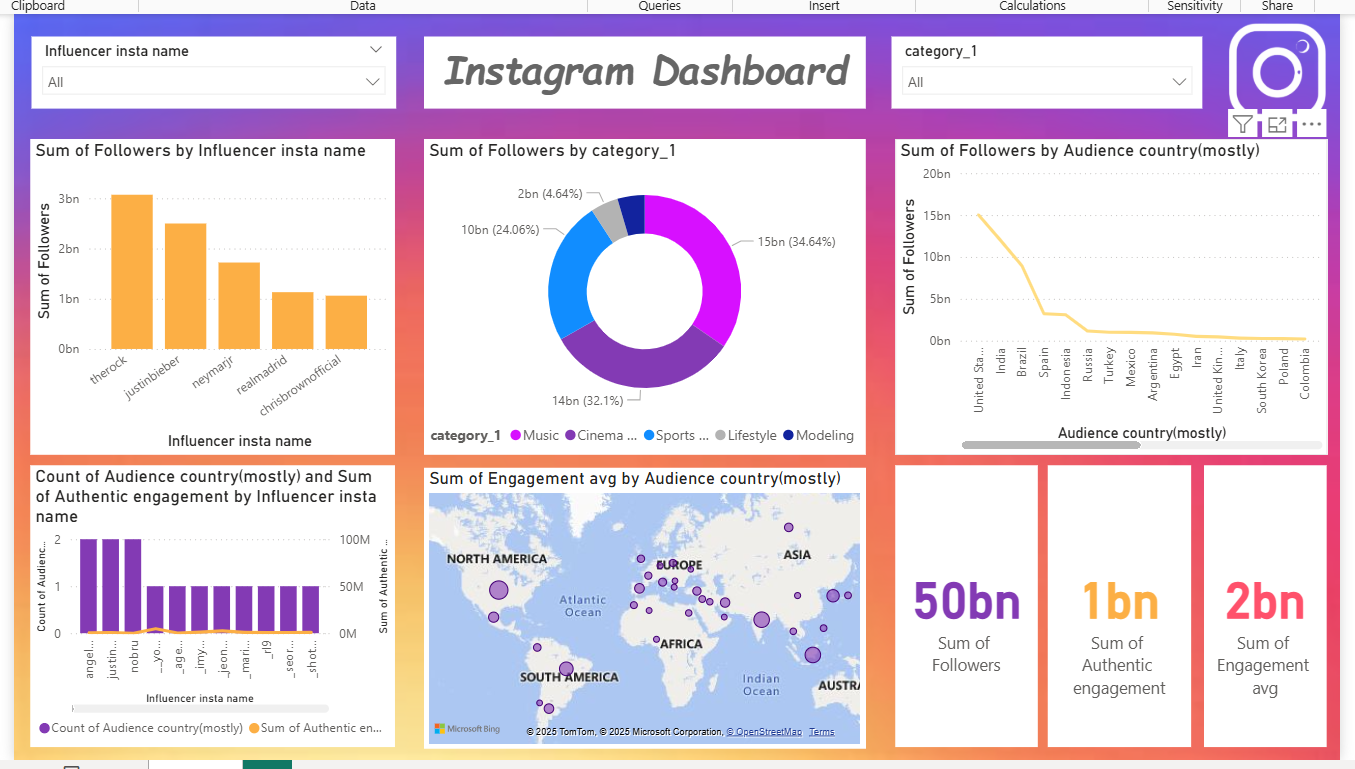

Layout of this report page (visuals, bound fields, positions):
{"tool":"powerbi","page":{"name":"Page 1","canvas":[1280,720],"ordinal":0},"visuals":[{"type":"image","box":[1157.6,0,122.8,110.5],"z":0},{"type":"textbox","box":[395.2,21.2,426.4,69.2],"z":1000},{"type":"clusteredColumnChart","fields":{"Category":["Sheet1.Influencer insta name"],"Y":["Sheet1.Followers"]},"box":[16.3,120.9,352.3,304.7],"z":2000},{"type":"donutChart","fields":{"Category":["Sheet1.category_1"],"Y":["Sheet1.Followers"]},"box":[395.2,120.6,426.4,304.7],"z":3000},{"type":"lineChart","fields":{"Category":["Sheet1.Audience country(mostly)"],"Y":["Sheet1.Followers"]},"box":[850,120.9,417.4,304.7],"z":4000},{"type":"slicer","fields":{"Values":["Sheet1.Influencer insta name"]},"box":[16.7,21.2,351.6,69.2],"z":5000},{"type":"lineStackedColumnComboChart","fields":{"Category":["Sheet1.Influencer insta name"],"Y":["Sheet1.Audience country(mostly)"],"Y2":["Sheet1.Authentic engagement"]},"box":[16.3,436,352.3,272.1],"z":6000},{"type":"map","fields":{"Category":["Sheet1.Audience country(mostly)"],"Size":["Sheet1.Engagement avg"]},"box":[395.2,437.6,426.4,271.3],"z":7000},{"type":"card","fields":{"Values":["Sheet1.Followers"]},"box":[850,436,137.2,272.1],"z":8000},{"type":"card","fields":{"Values":["Sheet1.Authentic engagement"]},"box":[997.7,436,138.4,272.1],"z":9000},{"type":"card","fields":{"Values":["Sheet1.Engagement avg"]},"box":[1148.8,436,118.6,272.1],"z":10000},{"type":"slicer","fields":{"Values":["Sheet1.category_1"]},"box":[847.3,21.2,300.3,69.2],"z":11000}]}

Visuals, with their boxes in screenshot pixels (x1, y1, x2, y2):
image: pyautogui.locateOnScreen(1216, 11, 1344, 126)
textbox: pyautogui.locateOnScreen(420, 33, 865, 105)
clusteredColumnChart - Sheet1.Influencer insta name x Sheet1.Followers: pyautogui.locateOnScreen(24, 137, 392, 455)
donutChart - Sheet1.category_1 x Sheet1.Followers: pyautogui.locateOnScreen(420, 136, 865, 455)
lineChart - Sheet1.Audience country(mostly) x Sheet1.Followers: pyautogui.locateOnScreen(894, 137, 1330, 455)
slicer - Sheet1.Influencer insta name: pyautogui.locateOnScreen(24, 33, 392, 105)
lineStackedColumnComboChart - Sheet1.Influencer insta name x Sheet1.Audience country(mostly): pyautogui.locateOnScreen(24, 466, 392, 750)
map - Sheet1.Audience country(mostly) x Sheet1.Engagement avg: pyautogui.locateOnScreen(420, 467, 865, 751)
card - Sheet1.Followers: pyautogui.locateOnScreen(894, 466, 1038, 750)
card - Sheet1.Authentic engagement: pyautogui.locateOnScreen(1049, 466, 1193, 750)
card - Sheet1.Engagement avg: pyautogui.locateOnScreen(1206, 466, 1330, 750)
slicer - Sheet1.category_1: pyautogui.locateOnScreen(892, 33, 1205, 105)
